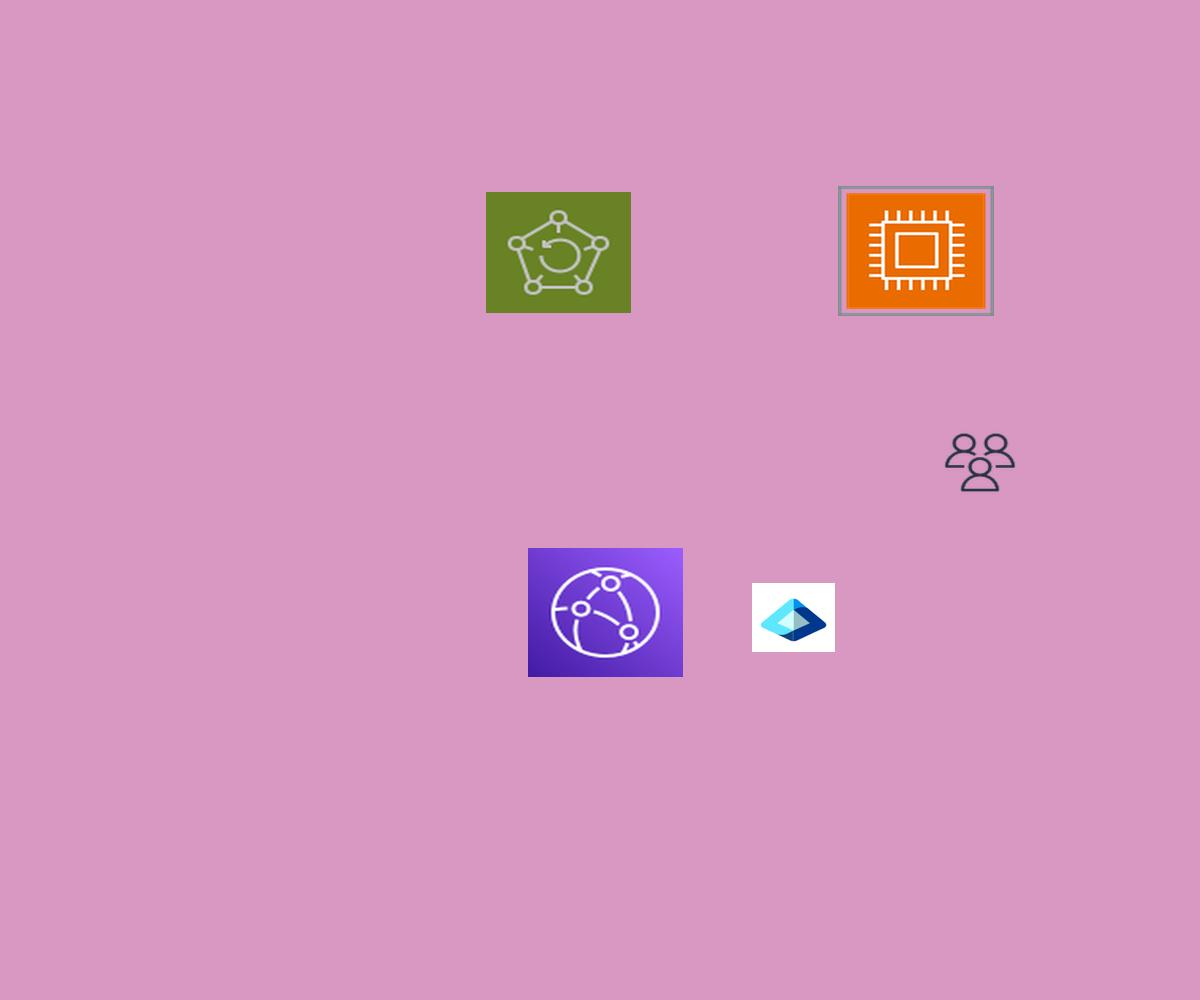AWS-Backup: (486, 192, 631, 313)
AWS-Category_Compute: (838, 186, 994, 316)
AWS-CloudFront: (528, 548, 683, 677)
AWS-Res_Users: (942, 431, 1018, 494)
Azure_microsoft_entra: (752, 583, 835, 652)
